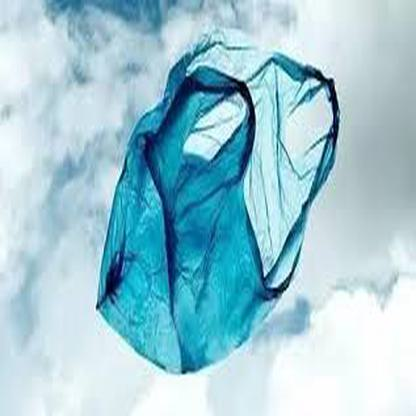plastic bag: (95, 27, 338, 376)
